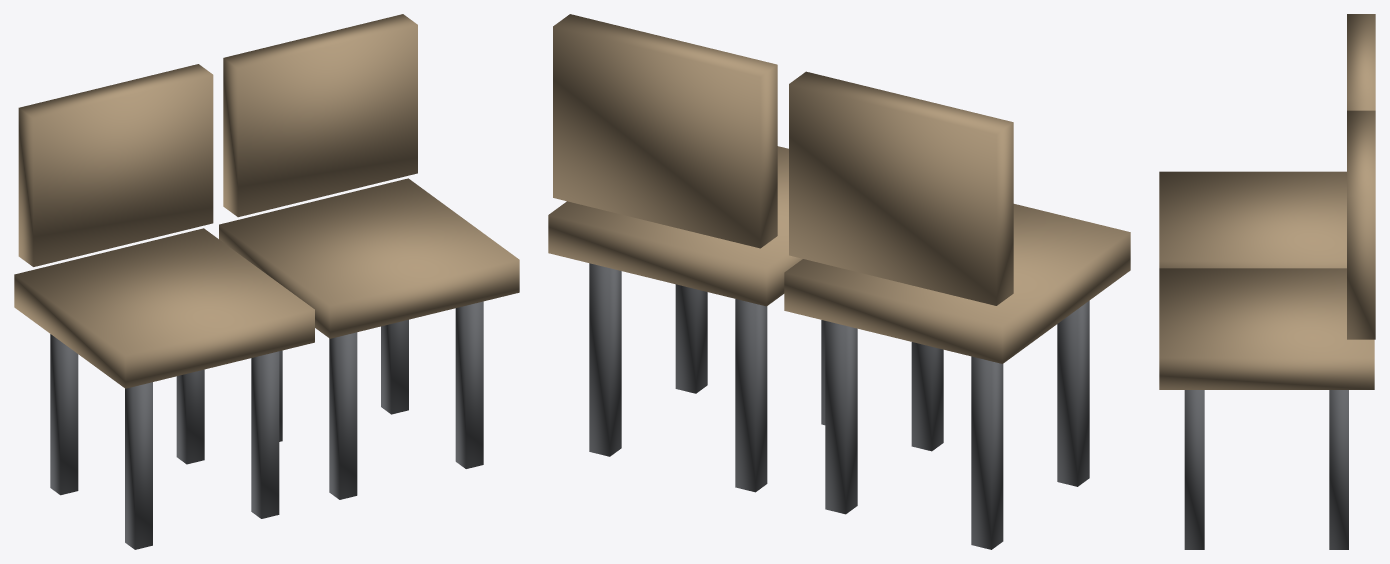
Rendered from school_chair__cluster.glb.
The picture shows the model from 3 angles, left to right: view 1: azimuth 30°, elevation 25°; view 2: azimuth 150°, elevation 25°; view 3: azimuth 270°, elevation 25°; orthographic projection. The views are drawn at different scales.
Visible parts, largest first — view 1: world; view 2: world; view 3: world.
Boxes of the visible parts, x1,y1,x2,y2 form: world: (14,14,519,549); world: (548,14,1130,549); world: (1159,14,1375,549).
Size of the model in its own units: 0.9991 by 0.9072 by 0.4902.
